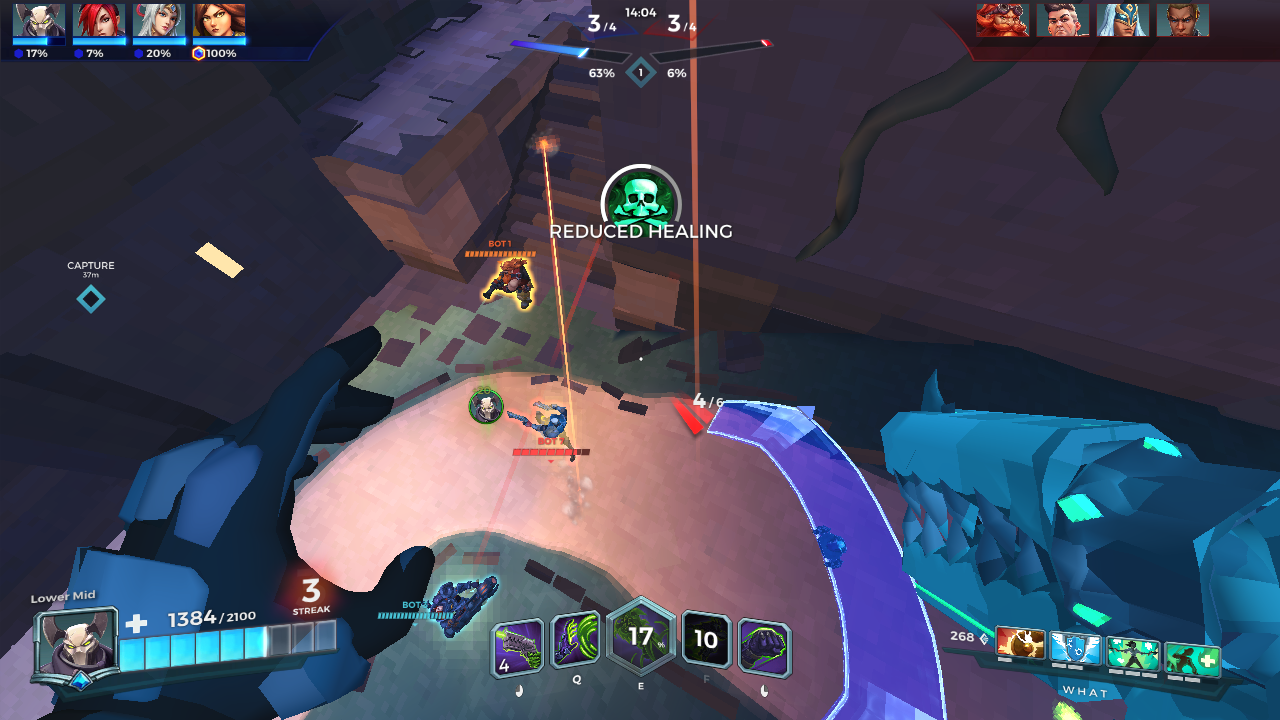model: (484, 246, 537, 309), (526, 394, 580, 448)
